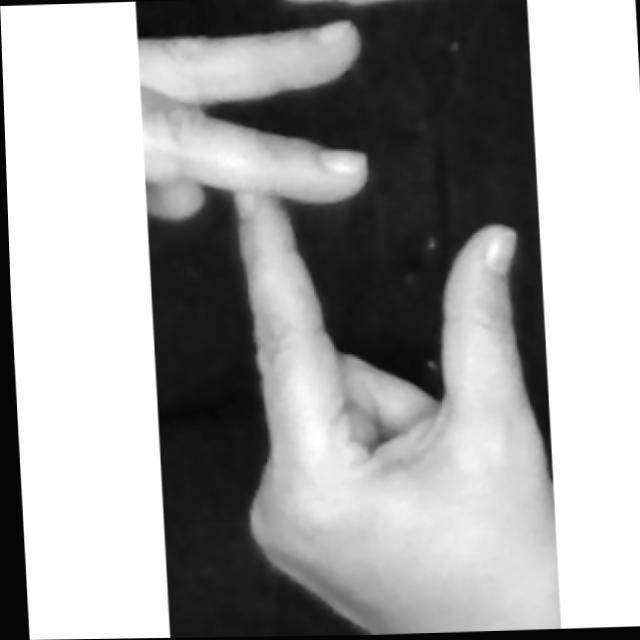U--: (138, 10, 561, 638)
